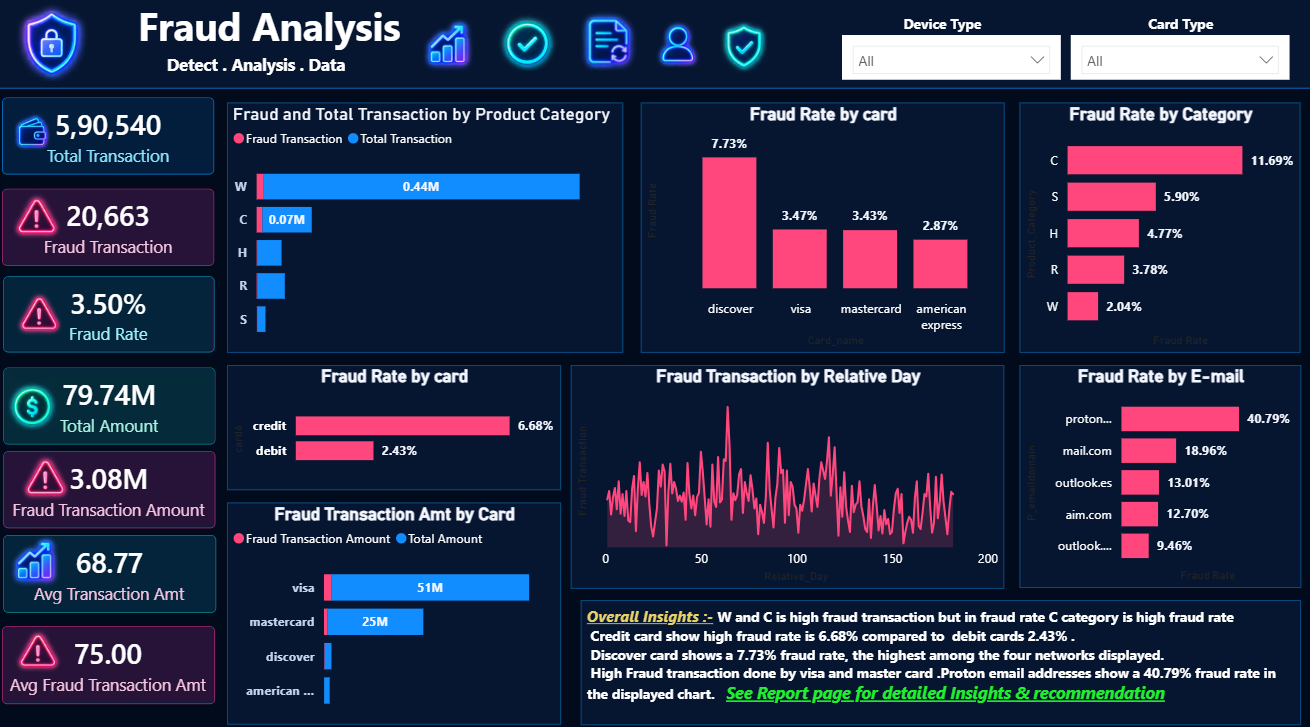

The dashboard page shown, as its layout file describes it:
{"tool":"powerbi","page":{"name":"Fraud Analysis","canvas":[1280,720],"ordinal":0},"visuals":[{"type":"shape","box":[0,0,1280,90.5],"z":0},{"type":"image","box":[18.1,7.2,79.6,76],"z":1000},{"type":"textbox","box":[67.6,0,410.2,60.3],"z":2000},{"type":"textbox","box":[113.9,50.8,282.7,39.8],"z":3000},{"type":"cardVisual","fields":{"Data":["Table.Total Transaction"]},"box":[9.7,98.9,205.1,74.8],"z":4000},{"type":"image","box":[9.7,112.2,57.9,37.4],"z":5000},{"type":"cardVisual","fields":{"Data":["Table.Fraud Transaction"]},"box":[9.7,187,205.1,74.8],"z":6000},{"type":"image","box":[9.7,188.2,68.8,49.5],"z":7000},{"type":"cardVisual","fields":{"Data":["Table.Fraud Rate"]},"box":[10.9,271.4,203.9,73.6],"z":8000},{"type":"image","box":[10.9,283.5,71.2,47.1],"z":9000},{"type":"cardVisual","fields":{"Data":["Table.Total Amount"]},"box":[10.9,359.5,205.1,74.8],"z":10000},{"type":"image","box":[7.2,371.6,62.7,49.5],"z":11000},{"type":"cardVisual","fields":{"Data":["Table.Fraud Transaction Amount"]},"box":[11,440.5,204.5,74.1],"z":12000},{"type":"image","box":[18.1,440.4,68.8,49.5],"z":13000},{"type":"barChart","title":"Fraud and Total Transaction by Product Category","fields":{"Y":["Table.Fraud Transaction","Table.Total Transaction"],"Category":["train_transaction.Product_Category"]},"box":[226.8,103.8,382.4,241.3],"z":14000},{"type":"barChart","title":"Fraud Transaction Amt by Card","fields":{"Category":["train_transaction.Card_name"],"Y":["Table.Fraud Transaction Amount","Table.Total Amount"]},"box":[226.8,489.8,322.1,214.7],"z":15000},{"type":"barChart","title":"Fraud Rate by card","fields":{"Category":["train_transaction.card6"],"Y":["Table.Fraud Rate"]},"box":[226.8,357.1,322.1,120.6],"z":16000},{"type":"columnChart","title":"Fraud Rate by card","fields":{"Category":["train_transaction.Card_name"],"Y":["Table.Fraud Rate"]},"box":[626.1,103.8,351.1,241.3],"z":17000},{"type":"slicer","fields":{"Values":["train_transaction.card6"]},"box":[1041.2,38.6,211.1,43.4],"z":18000},{"type":"textbox","box":[1077.4,13.3,139.9,33.8],"z":19000},{"type":"slicer","fields":{"Values":["train_identity.DeviceType"]},"box":[820.4,38.6,211.1,43.4],"z":20000},{"type":"textbox","box":[874.7,13.3,102.5,27.7],"z":21000},{"type":"barChart","title":"Fraud Rate by Category","fields":{"Category":["train_transaction.Product_Category"],"Y":["Table.Fraud Rate"]},"box":[991.7,103.8,271.4,241.3],"z":22000},{"type":"lineChart","title":"Fraud Transaction by Relative Day","fields":{"Category":["train_transaction.Relative_Day"],"Y":["Table.Fraud Transaction"]},"box":[558.6,357.1,418.6,216],"z":23000},{"type":"clusteredBarChart","title":"Fraud Rate by E-mail","fields":{"Category":["train_transaction.P_emaildomain"],"Y":["Table.Fraud Rate"]},"box":[992.1,356.8,271.7,215.4],"z":24000},{"type":"cardVisual","fields":{"Data":["Table.Avg Transaction Amt"]},"box":[11,521.4,205.8,75.5],"z":25000},{"type":"cardVisual","fields":{"Data":["Table.Avg Fraud Transaction Amt"]},"box":[9.6,609.3,205.8,75.5],"z":26000},{"type":"image","box":[1.2,515.2,77.2,57.9],"z":27000},{"type":"image","box":[9.6,609.3,71.4,46.7],"z":28000},{"type":"image","box":[360.9,15.1,155.1,59],"z":29000},{"type":"image","box":[462.4,9.6,105.7,70],"z":30000},{"type":"image","box":[548.9,12.3,90.6,61.7],"z":31000},{"type":"image","box":[617.7,20.5,89.3,49.5],"z":32000},{"type":"image","box":[662.3,25.3,126.7,49.5],"z":33000},{"type":"textbox","box":[568.2,583.9,694.9,120.6],"z":34000}]}

Visuals, with their boxes in screenshot pixels (x1, y1, x2, y2), scaled from the page's 1280x720 canvas onto the 1310x727 screenshot:
shape: (left=0, top=0, right=1309, bottom=91)
image: (left=19, top=7, right=100, bottom=84)
textbox: (left=69, top=0, right=489, bottom=61)
textbox: (left=117, top=51, right=406, bottom=91)
cardVisual - Table.Total Transaction: (left=10, top=100, right=220, bottom=175)
image: (left=10, top=113, right=69, bottom=151)
cardVisual - Table.Fraud Transaction: (left=10, top=189, right=220, bottom=264)
image: (left=10, top=190, right=80, bottom=240)
cardVisual - Table.Fraud Rate: (left=11, top=274, right=220, bottom=348)
image: (left=11, top=286, right=84, bottom=334)
cardVisual - Table.Total Amount: (left=11, top=363, right=221, bottom=439)
image: (left=7, top=375, right=72, bottom=425)
cardVisual - Table.Fraud Transaction Amount: (left=11, top=445, right=221, bottom=520)
image: (left=19, top=445, right=89, bottom=495)
"Fraud and Total Transaction by Product Category" barChart: (left=232, top=105, right=623, bottom=348)
"Fraud Transaction Amt by Card" barChart: (left=232, top=495, right=562, bottom=711)
"Fraud Rate by card" barChart: (left=232, top=361, right=562, bottom=482)
"Fraud Rate by card" columnChart: (left=641, top=105, right=1000, bottom=348)
slicer - train_transaction.card6: (left=1066, top=39, right=1282, bottom=83)
textbox: (left=1103, top=13, right=1246, bottom=48)
slicer - train_identity.DeviceType: (left=840, top=39, right=1056, bottom=83)
textbox: (left=895, top=13, right=1000, bottom=41)
"Fraud Rate by Category" barChart: (left=1015, top=105, right=1293, bottom=348)
"Fraud Transaction by Relative Day" lineChart: (left=572, top=361, right=1000, bottom=579)
"Fraud Rate by E-mail" clusteredBarChart: (left=1015, top=360, right=1293, bottom=578)
cardVisual - Table.Avg Transaction Amt: (left=11, top=526, right=222, bottom=603)
cardVisual - Table.Avg Fraud Transaction Amt: (left=10, top=615, right=220, bottom=691)
image: (left=1, top=520, right=80, bottom=579)
image: (left=10, top=615, right=83, bottom=662)
image: (left=369, top=15, right=528, bottom=75)
image: (left=473, top=10, right=581, bottom=80)
image: (left=562, top=12, right=654, bottom=75)
image: (left=632, top=21, right=724, bottom=71)
image: (left=678, top=26, right=807, bottom=76)
textbox: (left=582, top=590, right=1293, bottom=711)
